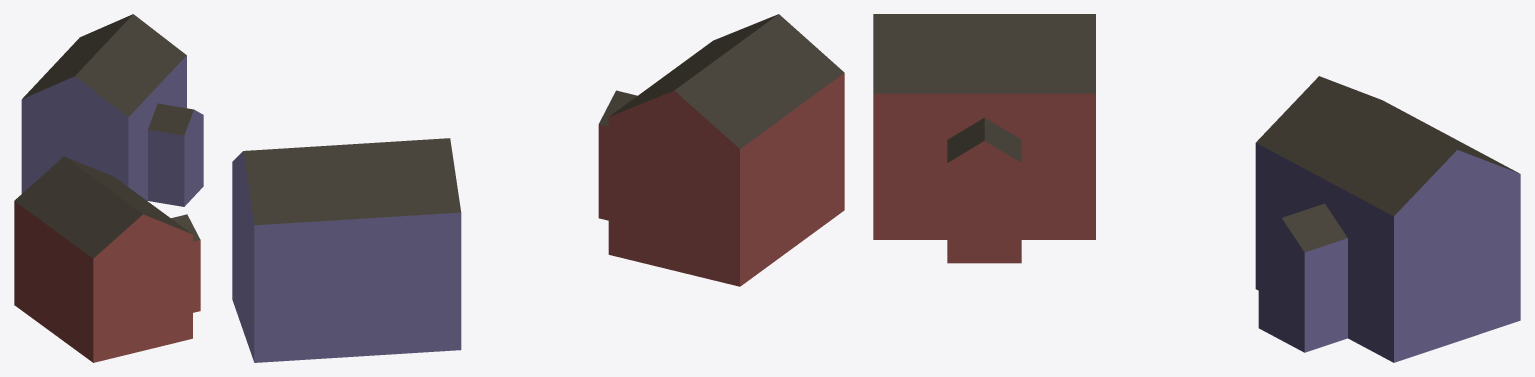
Rendered from houses.gltf.
3 renders of one model, left to right at view 1: azimuth 30°, elevation 25°; view 2: azimuth 150°, elevation 25°; view 3: azimuth 270°, elevation 25°, orthographic. The views are drawn at different scales.
Parts seen in each view (by area): view 1: red_building, blue_building; view 2: red_building, blue_building; view 3: blue_building, red_building.
Part boxes in pixels (x1,y1,x2,y2): red_building: [14, 156, 200, 362]; blue_building: [21, 14, 203, 206]; red_building: [598, 14, 844, 286]; blue_building: [232, 138, 461, 362]; blue_building: [1255, 76, 1520, 362]; red_building: [873, 14, 1095, 263].
Bounding box in the file's own units: 0.514 × 0.2407 × 0.7357.
